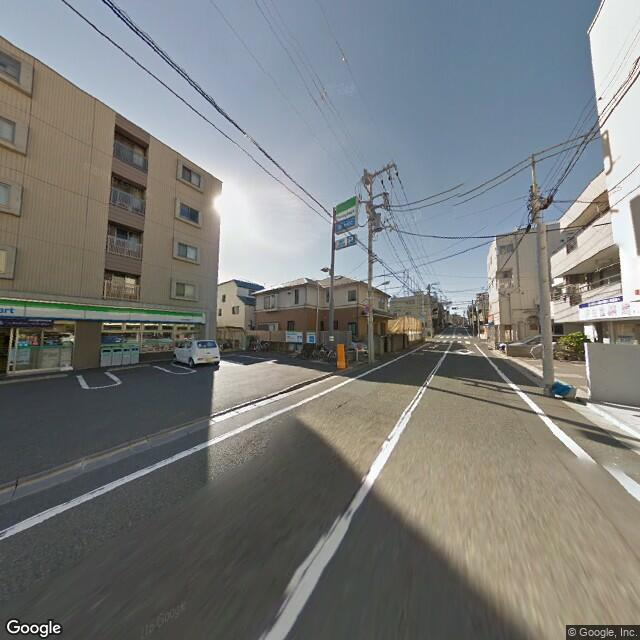family_mart: (1, 298, 206, 328), (335, 193, 359, 231)
